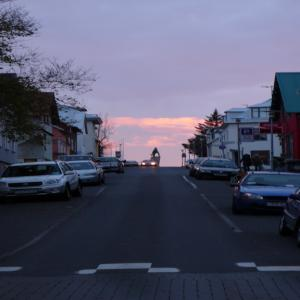Vehicle-registration-plate: (13, 190, 38, 195)
